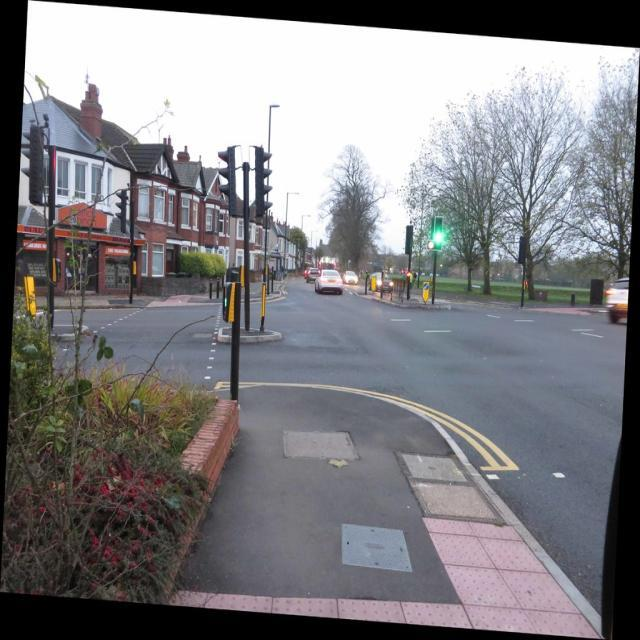off traffic light: (254, 147, 273, 217), (218, 147, 239, 208), (434, 216, 443, 250)
